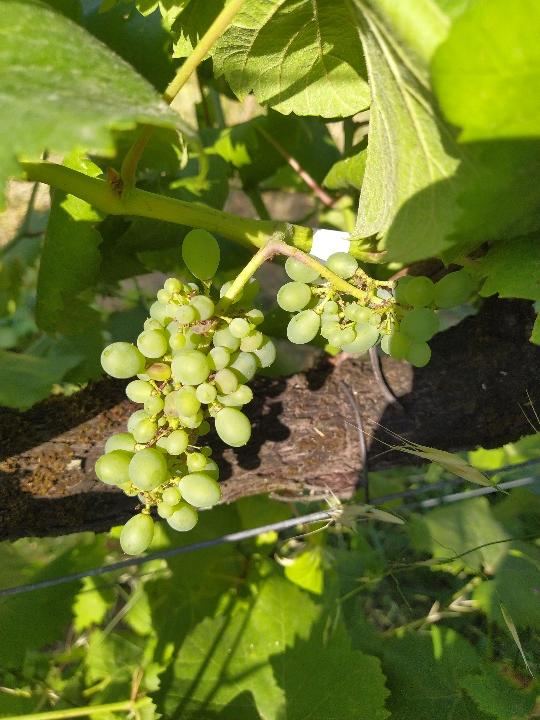grape: (88, 225, 477, 566)
